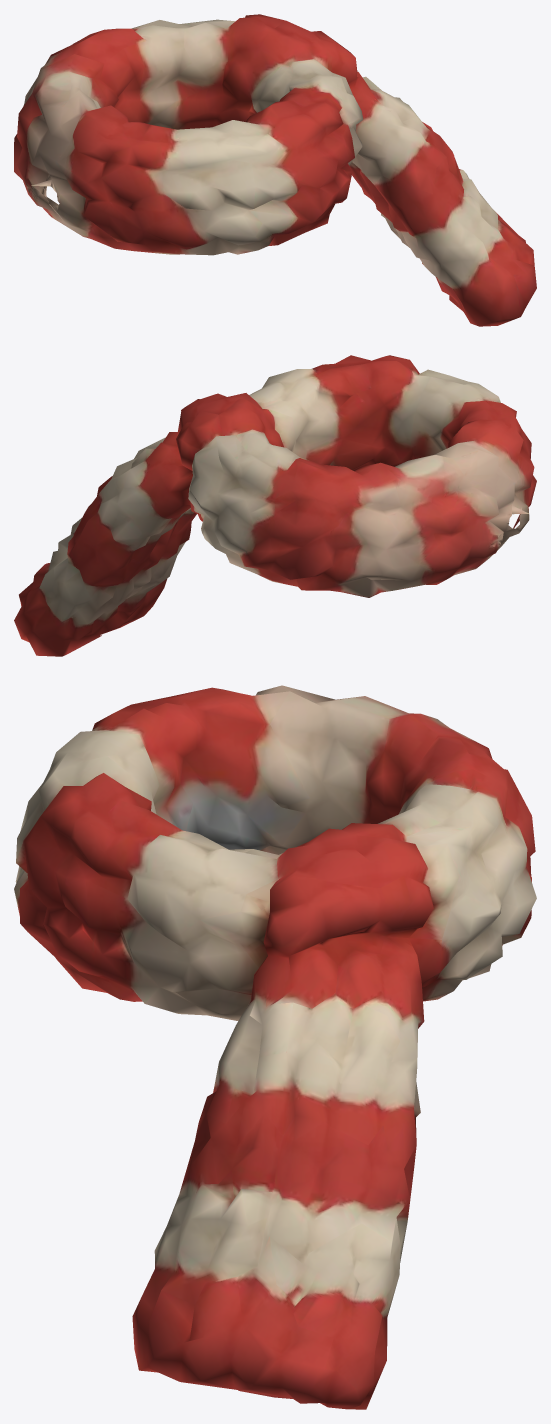
File: x-scarf.glb
3 views of the same model, one above another, from view 1: azimuth 30°, elevation 25°; view 2: azimuth 150°, elevation 25°; view 3: azimuth 270°, elevation 25° (orthographic). The views are drawn at different scales.
Parts seen in each view (by area): view 1: tripo_node_30774223-b3ad-470b-94ed-224bd01274d8; view 2: tripo_node_30774223-b3ad-470b-94ed-224bd01274d8; view 3: tripo_node_30774223-b3ad-470b-94ed-224bd01274d8.
Boxes of the visible parts, bbox=[...] form: tripo_node_30774223-b3ad-470b-94ed-224bd01274d8: bbox=[14, 14, 536, 326]; tripo_node_30774223-b3ad-470b-94ed-224bd01274d8: bbox=[14, 355, 536, 656]; tripo_node_30774223-b3ad-470b-94ed-224bd01274d8: bbox=[14, 685, 536, 1409].
Size of the model in its own units: 1 by 0.5839 by 0.6237.
Materials: 1 (1 with a texture image).
